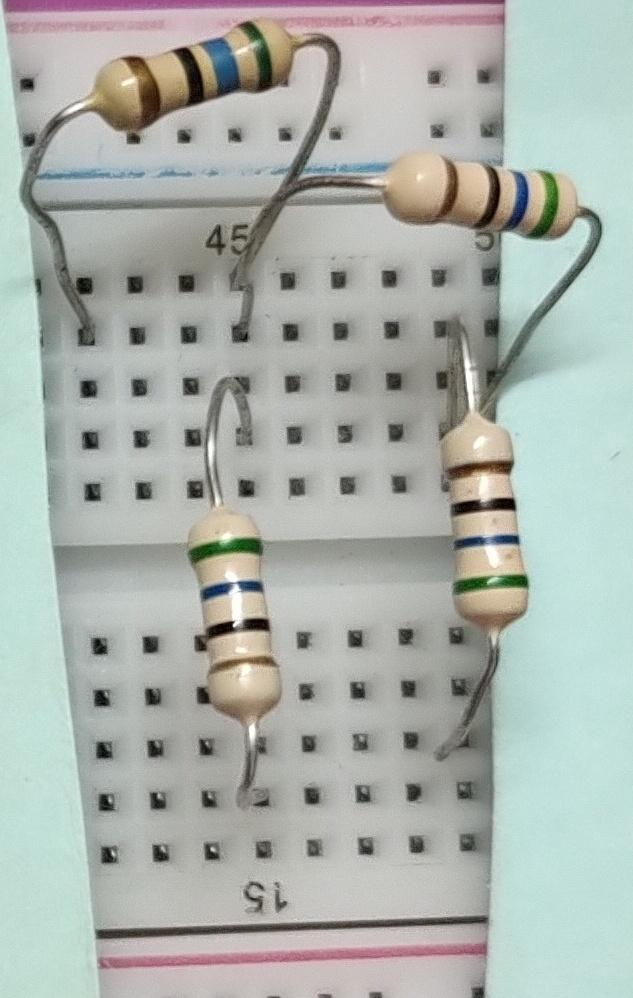resistor: (71, 15, 313, 148), (431, 397, 557, 645), (169, 501, 298, 736), (371, 137, 591, 252)
